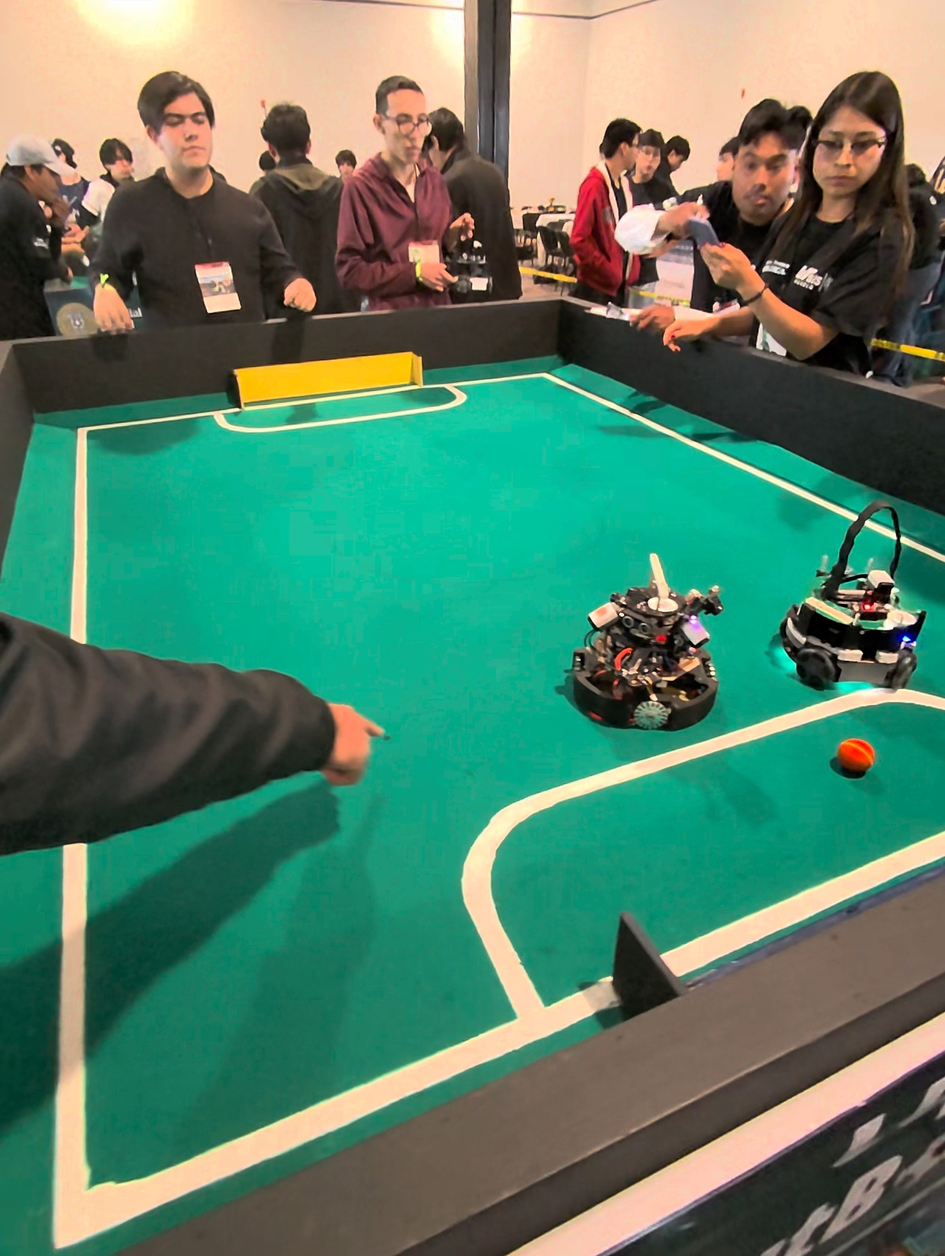Robot: (558, 550, 722, 739), (784, 506, 927, 693)
pelota: (836, 741, 876, 773)
